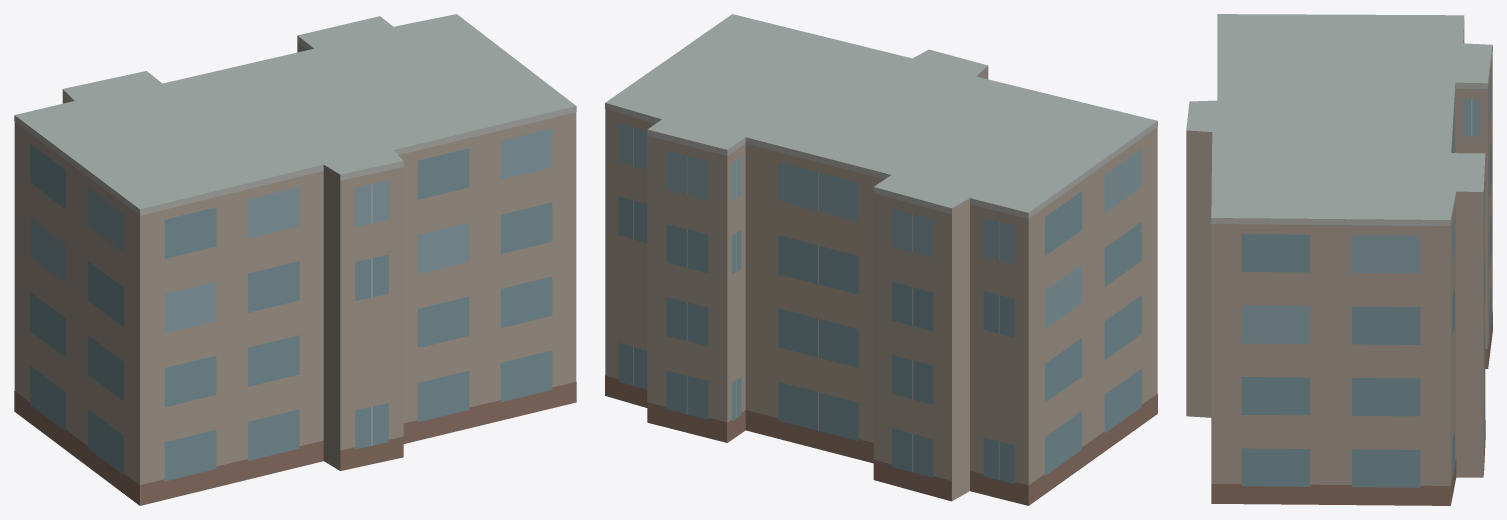
Rendered from survey-upis-32823822.glb.
The picture shows the model from 3 angles, left to right: view 1: azimuth 30°, elevation 25°; view 2: azimuth 150°, elevation 25°; view 3: azimuth 270°, elevation 25°; orthographic projection. The views are drawn at different scales.
Visible parts, largest first — view 1: survey-upis-32823822.tmp; view 2: survey-upis-32823822.tmp; view 3: survey-upis-32823822.tmp.
Part boxes in pixels (box(x1,y1,x2,y2)): survey-upis-32823822.tmp: box(14, 14, 576, 505); survey-upis-32823822.tmp: box(605, 14, 1157, 505); survey-upis-32823822.tmp: box(1186, 14, 1492, 505).
Size of the model in its own units: 18.05 by 11.67 by 11.36.
